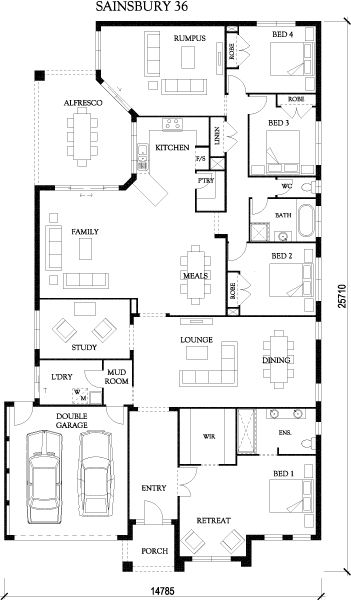door: (141, 499, 165, 522), (82, 368, 102, 390), (104, 404, 124, 426), (11, 405, 31, 427), (226, 74, 248, 94), (247, 95, 269, 115), (226, 243, 249, 262), (249, 198, 268, 217), (276, 178, 295, 197)
room: (225, 241, 322, 318), (235, 454, 320, 540), (224, 21, 321, 95), (247, 92, 321, 178)
window: (54, 184, 118, 191), (313, 121, 321, 165), (314, 257, 322, 301), (94, 31, 101, 71), (314, 205, 322, 239), (191, 555, 229, 562), (257, 21, 295, 27)
